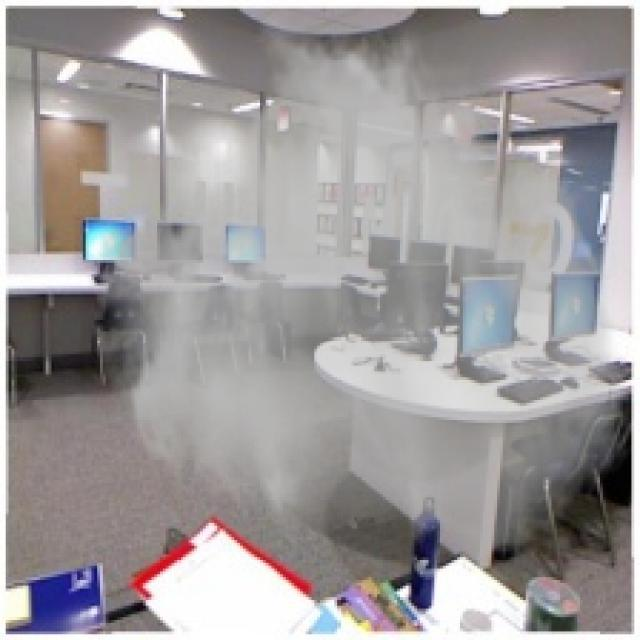Smoke: (88, 11, 638, 566)
